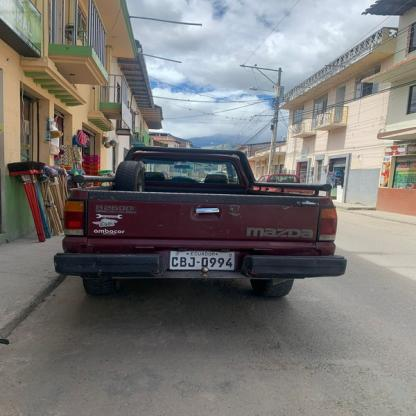Placa: (164, 245, 241, 275)
